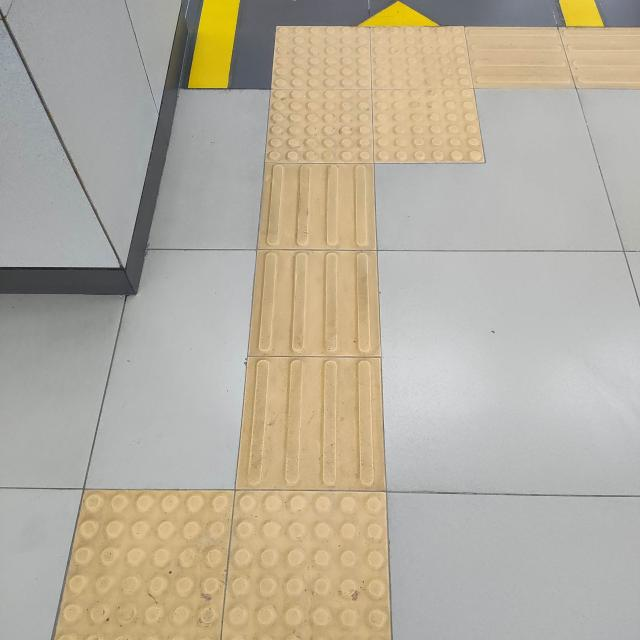kanan: (227, 4, 584, 208)
